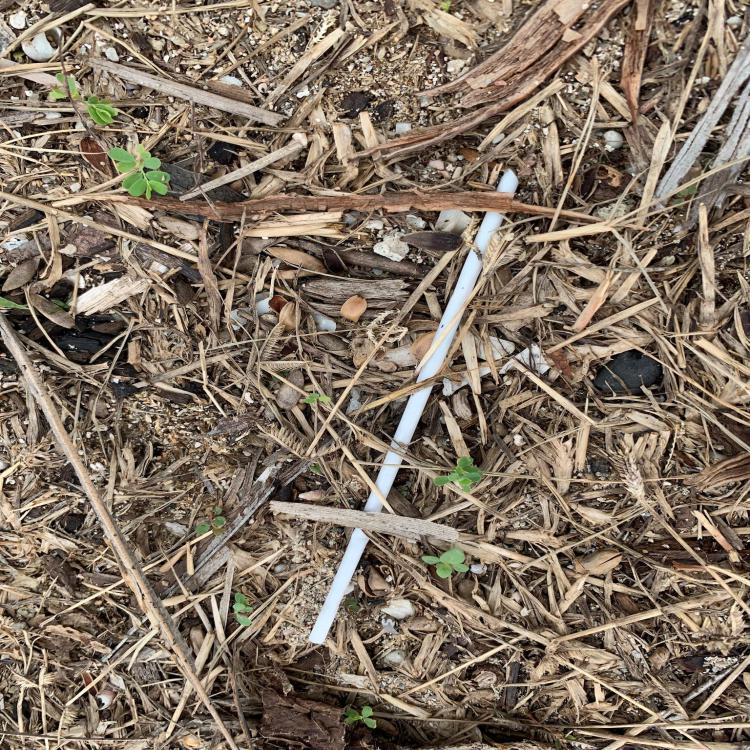Plastic straw: (309, 165, 519, 644)
